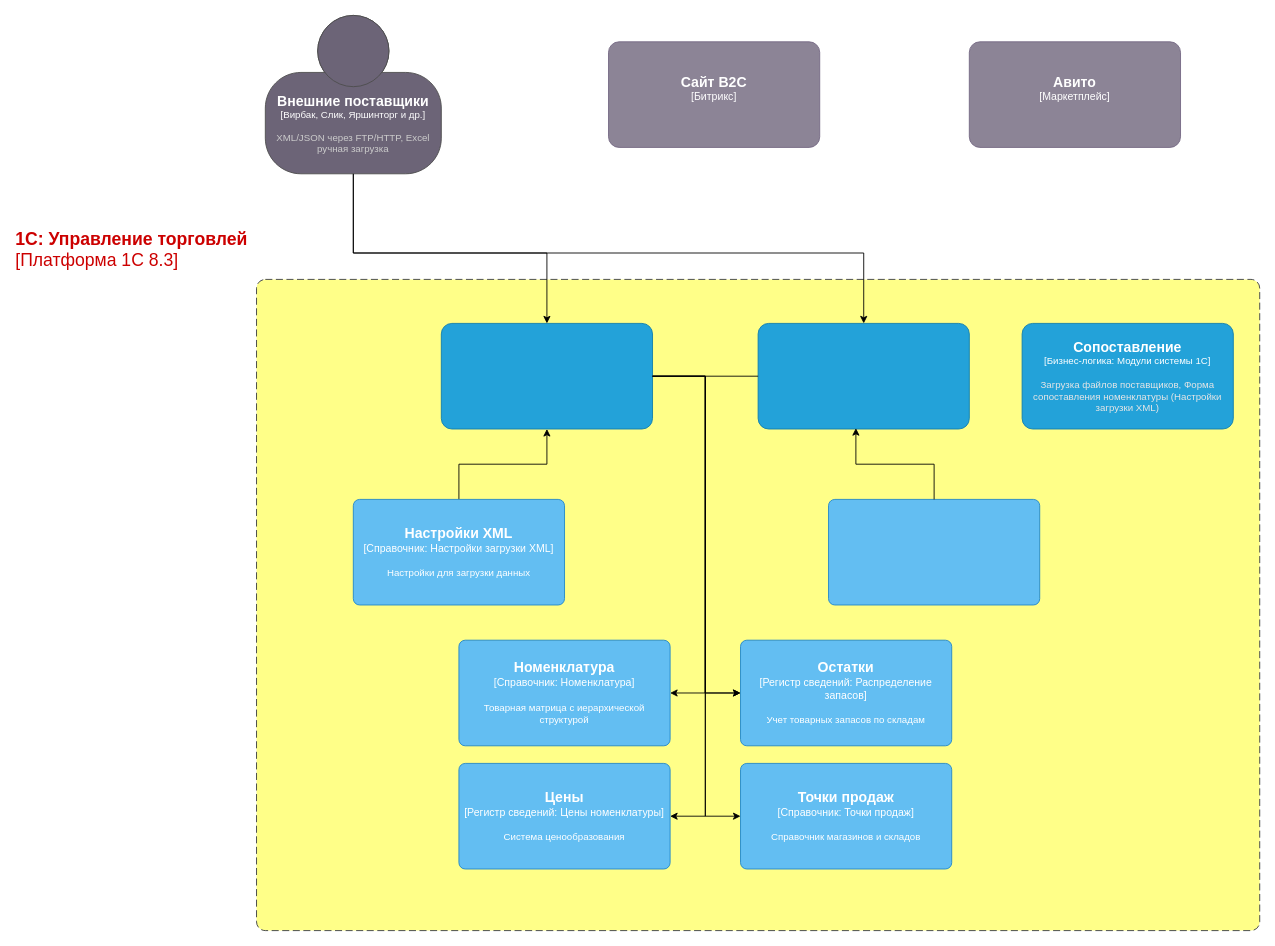
This 1275x946 diagram has some shape labels left out. Here are the shapes that lost their labels. From the top down, the box of each, then its label:
(440, 323, 653, 429): Автоматическая загрузка [Регламентные задания: Регламентные задания (ДШ)]
(757, 323, 969, 429): Ручная загрузка [Внутренняя обработка: Загрузка файлов поставщиков]
(828, 499, 1040, 605): Настройки [Справочник: Настройки загрузки] Настройки для загрузки данных
